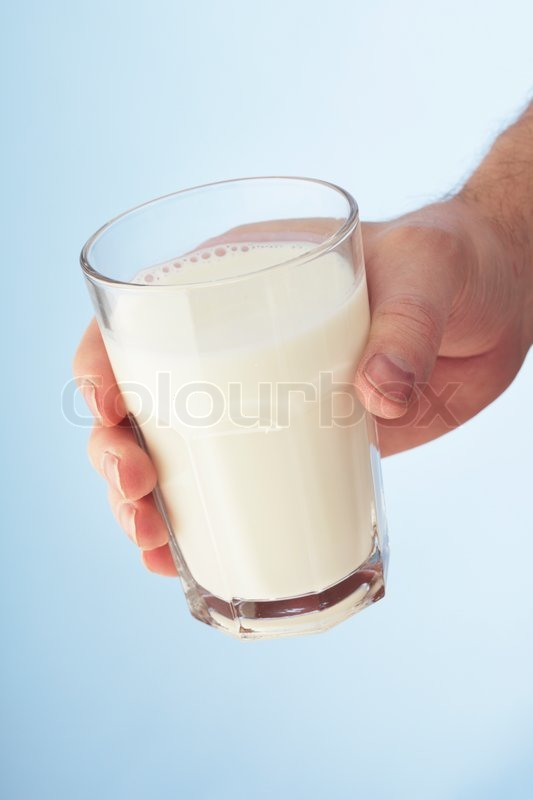glass of milk: (78, 174, 387, 634)
